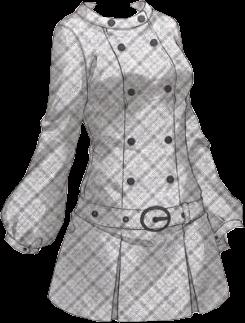Bodice: (56, 0, 205, 229)
Hemline: (46, 293, 230, 322)
Neckline: (78, 193, 203, 210), (80, 1, 147, 21)
Skirt: (47, 213, 229, 320)
Sleeve: (0, 25, 85, 254)
Sleeveline: (55, 23, 88, 92)
Waistline: (71, 211, 207, 231)
